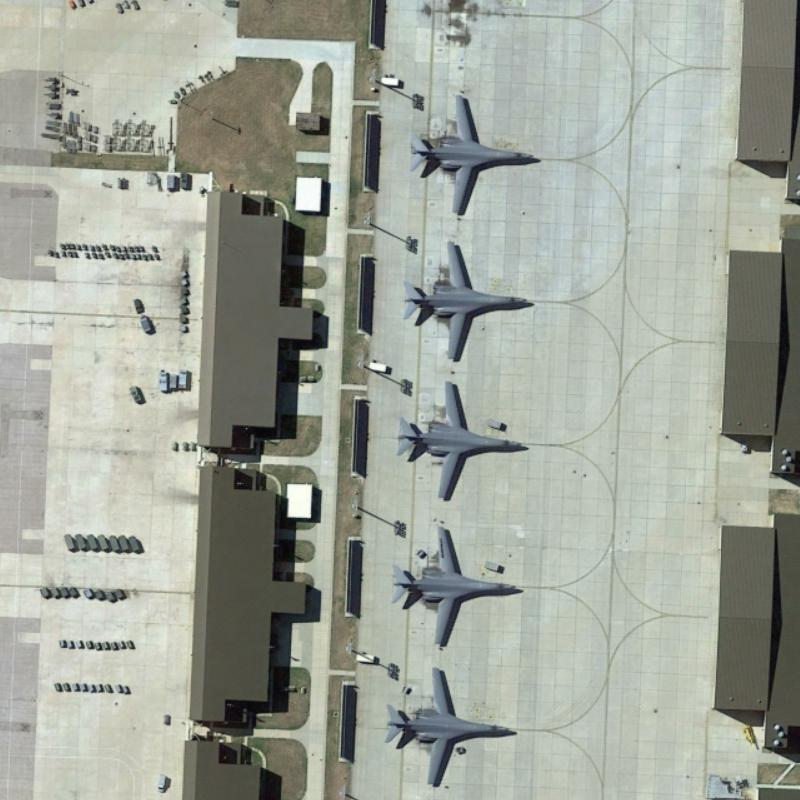A10: (395, 228, 540, 370), (377, 659, 522, 793), (407, 83, 547, 220), (384, 377, 531, 503), (387, 520, 524, 650)
